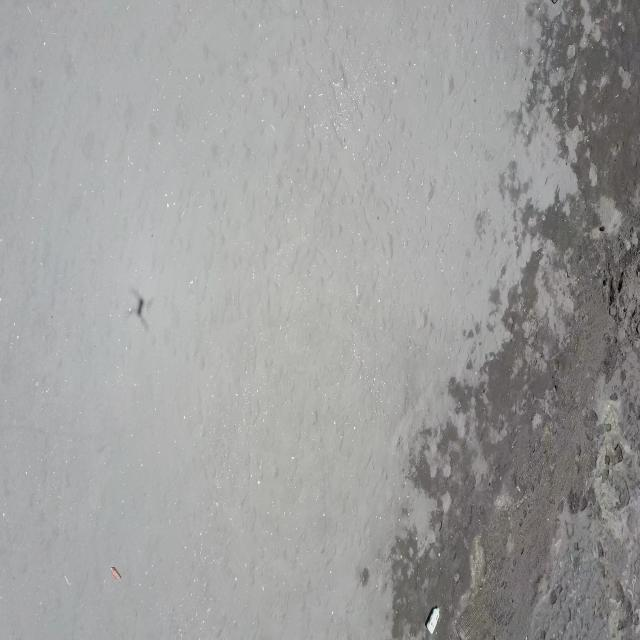plastic-bottle: (424, 604, 440, 634)
